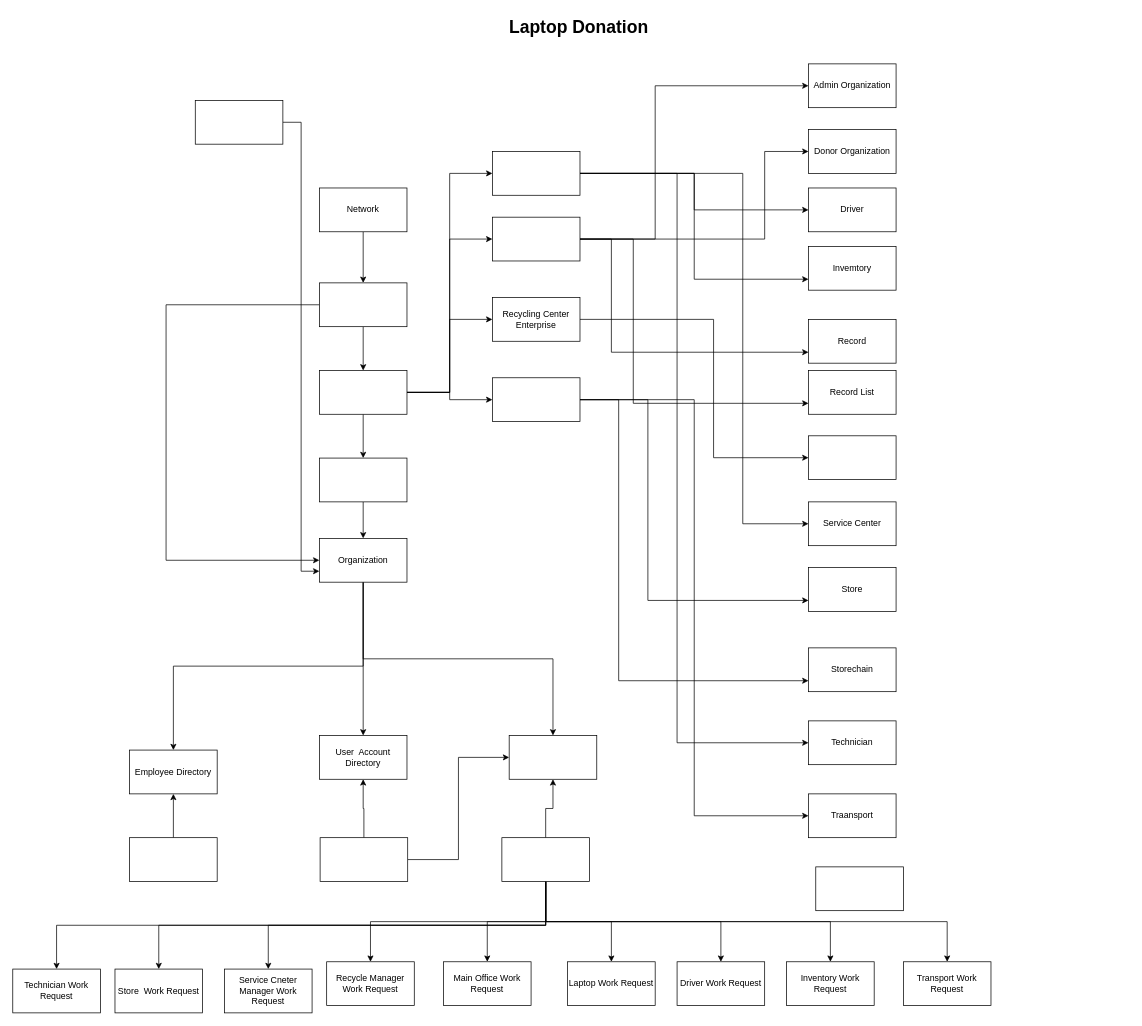
Some shapes in this 1142 by 1026 pixel diagram are drawn without their labels. The centre of each missing label's shape, as x and y in pixels:
Ecosystem: [239,122]
Employee: [173,859]
Enterprise: [363,392]
Enterprise Directory: [363,304]
Inspection Center Enterprise: [536,173]
Main Center Enterprise: [536,238]
Main Office: [859,888]
Organizatin Directory: [363,479]
Recycling: [852,457]
Transport Agency Enterprise: [536,399]
User Account: [363,859]
Work queue: [552,757]
Work Request: [545,859]
